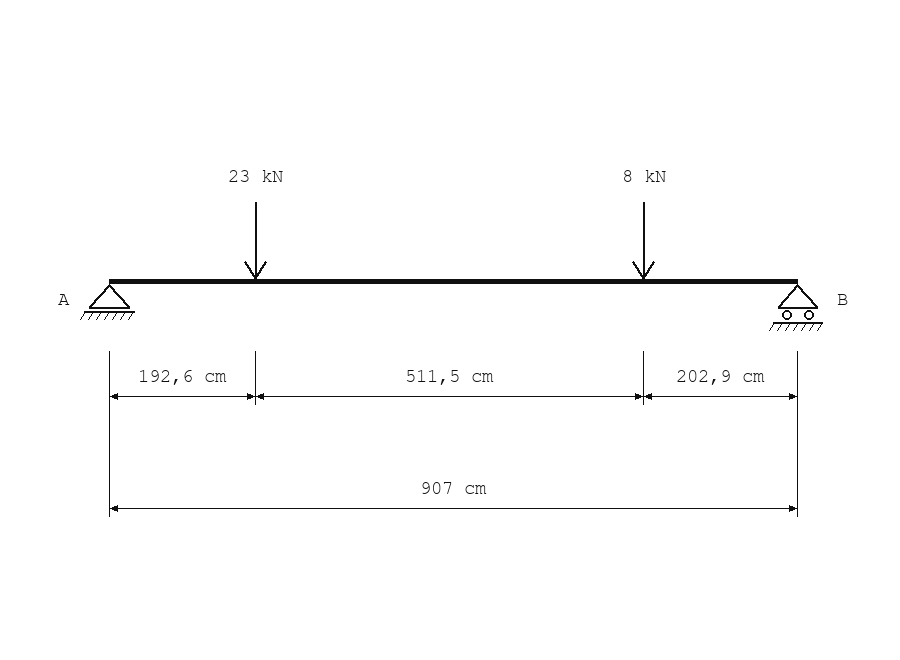pin_support: (80, 284, 135, 320)
point_load: (244, 202, 267, 280), (632, 202, 655, 280)
roller_support: (769, 284, 823, 331)
